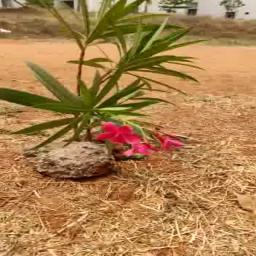OLEANDER: (0, 0, 214, 150)
